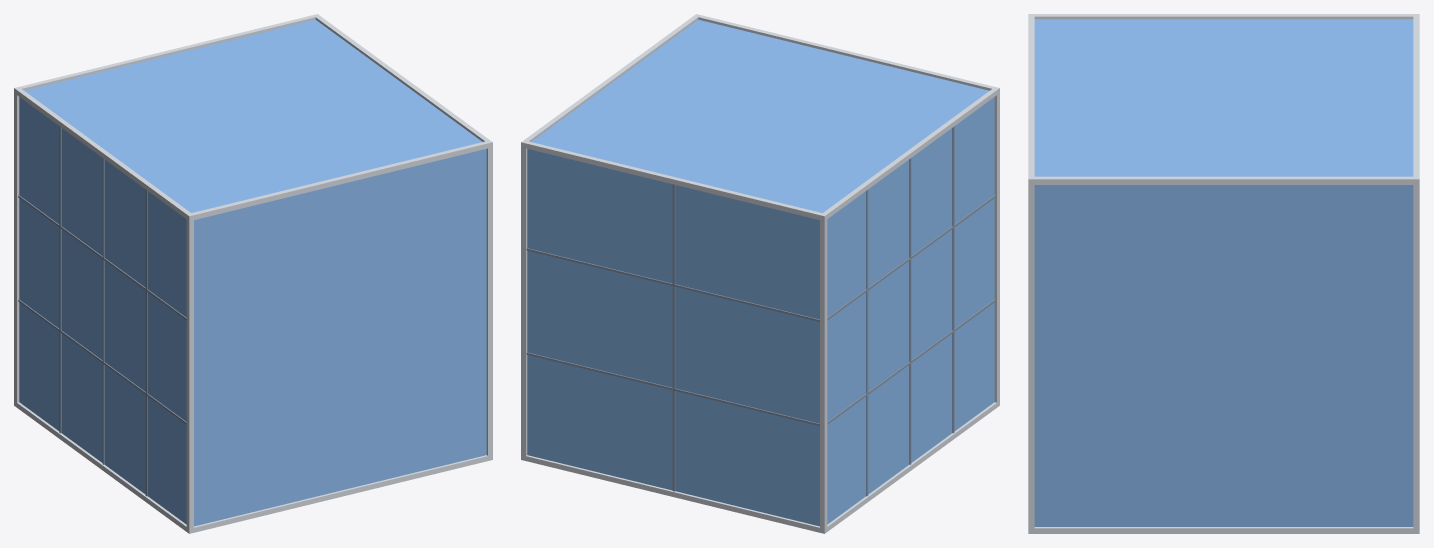
File: kyvos-klasmaton.glb
The picture shows the model from 3 angles, left to right: view 1: azimuth 30°, elevation 25°; view 2: azimuth 150°, elevation 25°; view 3: azimuth 270°, elevation 25°; orthographic projection. The views are drawn at different scales.
Visible parts, largest first — view 1: kyvos, akmes, kannavos; view 2: kyvos, akmes, kannavos; view 3: kyvos, akmes.
Part boxes in pixels (x1=…): kyvos: x1=19, y1=19, x2=486, y2=526; akmes: x1=14, y1=14, x2=492, y2=533; kannavos: x1=18, y1=126, x2=186, y2=496; kyvos: x1=527, y1=19, x2=994, y2=526; akmes: x1=521, y1=14, x2=999, y2=533; kannavos: x1=526, y1=126, x2=995, y2=496; kyvos: x1=1034, y1=19, x2=1413, y2=526; akmes: x1=1028, y1=14, x2=1419, y2=533.
Size of what is drawn, in the model's own units: 0.254 by 0.254 by 0.254.
